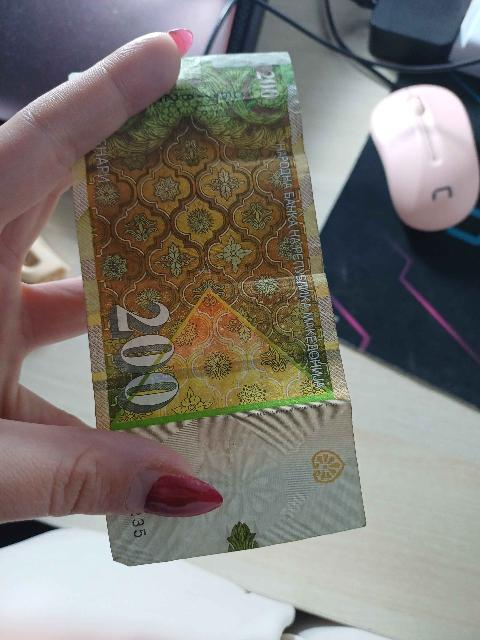200_note: (74, 54, 364, 564)
